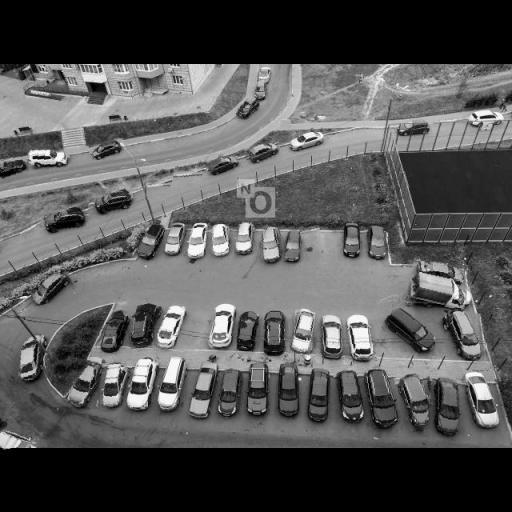busy: (407, 258, 470, 310), (425, 377, 468, 439), (397, 373, 438, 430), (444, 310, 488, 360), (121, 358, 159, 415), (387, 308, 437, 351), (363, 370, 400, 428), (464, 376, 502, 432), (334, 370, 370, 426), (64, 358, 104, 408), (94, 362, 128, 411), (124, 304, 158, 350), (154, 307, 188, 352), (344, 316, 376, 362), (14, 340, 46, 384), (288, 309, 318, 355), (40, 206, 88, 234), (29, 274, 73, 304), (207, 307, 236, 351), (316, 316, 344, 360), (134, 221, 164, 262), (89, 188, 132, 216), (98, 314, 128, 354), (263, 310, 287, 356), (255, 228, 284, 266), (363, 225, 391, 263), (206, 224, 234, 260), (26, 148, 70, 170), (184, 224, 210, 261), (238, 310, 260, 352), (280, 230, 307, 264), (0, 423, 36, 448), (339, 224, 363, 260), (244, 142, 282, 164), (234, 224, 258, 258), (88, 140, 126, 160), (162, 223, 184, 257), (288, 132, 324, 152), (466, 107, 504, 125), (206, 156, 239, 175), (0, 157, 26, 178), (236, 99, 262, 120)
free: (178, 307, 216, 349), (300, 226, 326, 262), (172, 168, 202, 190), (141, 180, 169, 202), (324, 226, 340, 262)
